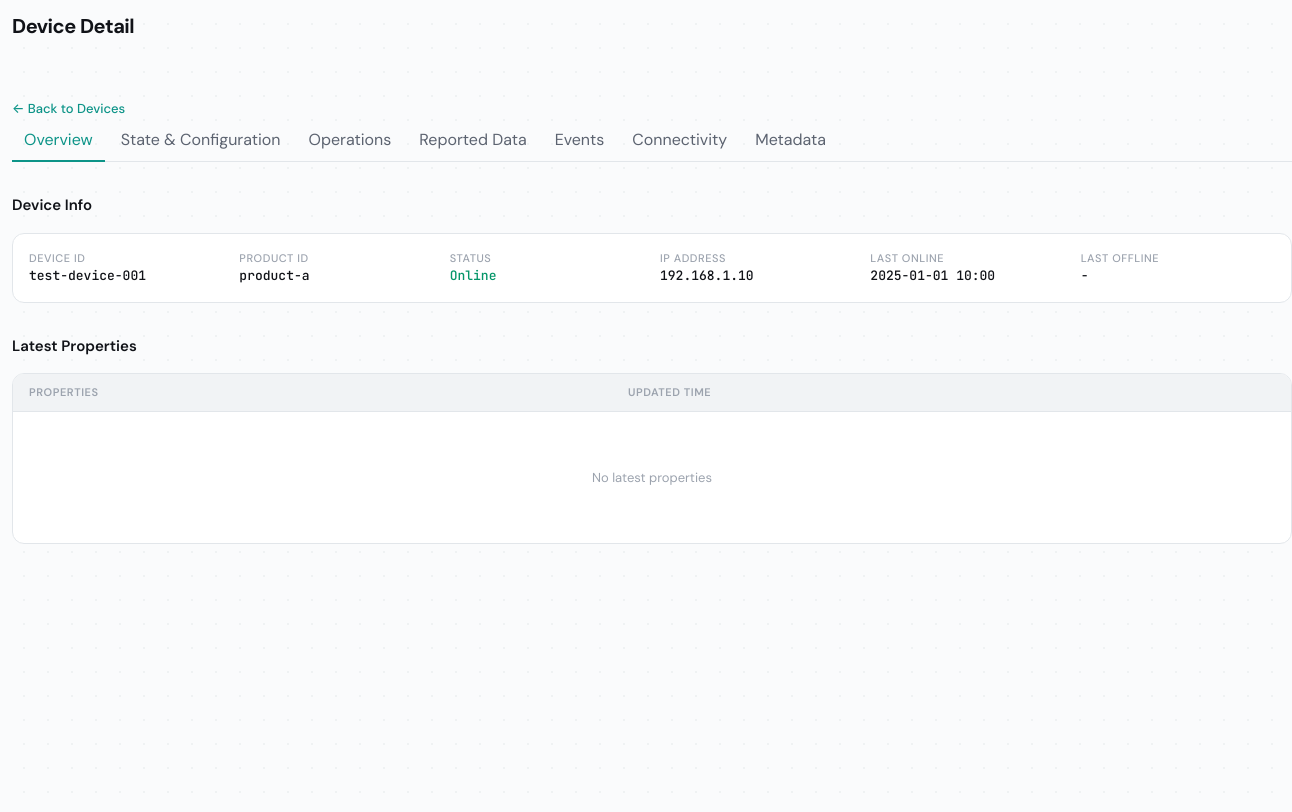
Test: Factory metadata section › renders section container
Click the tab "Metadata".
click(791, 141)  # box x1=743 y1=120 x2=838 y2=162
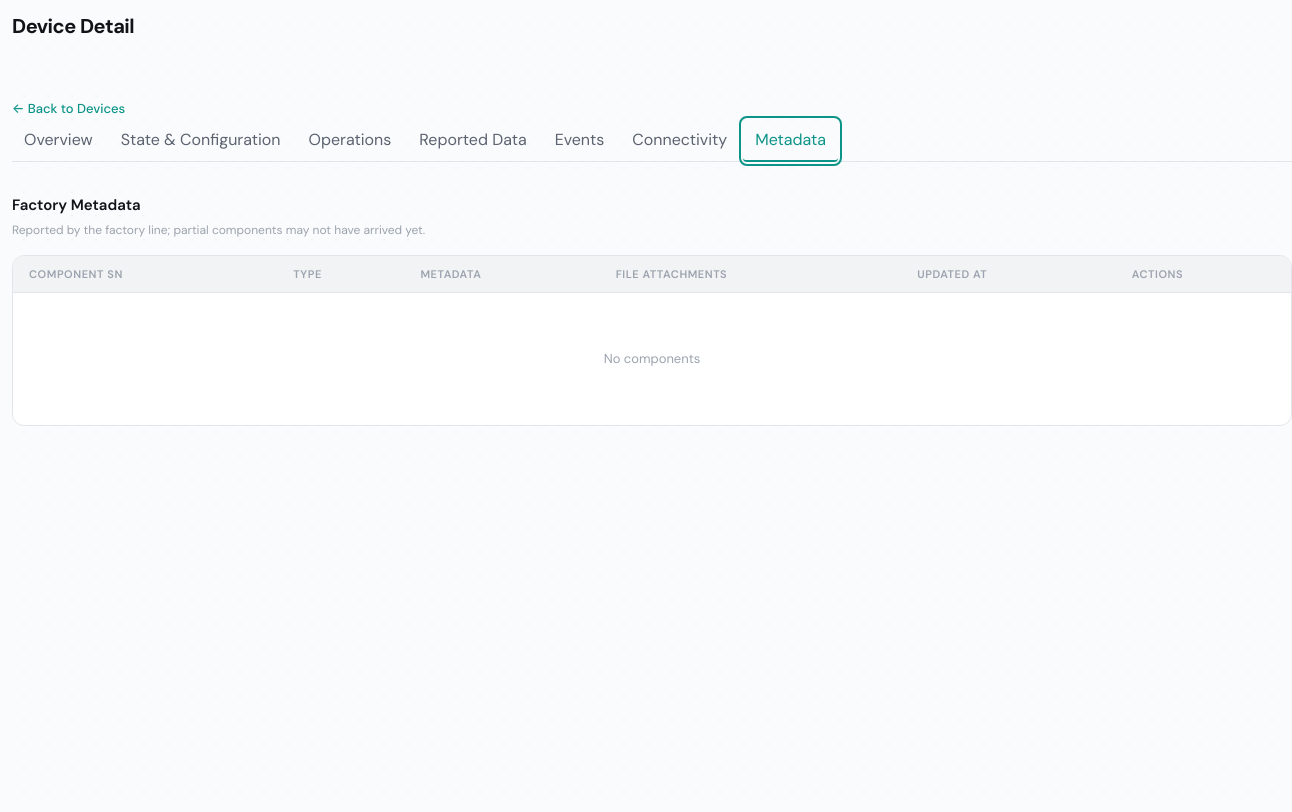
Now the element with test id "factory-metadata-section" is shown, box x1=12 y1=194 x2=1291 y2=426
